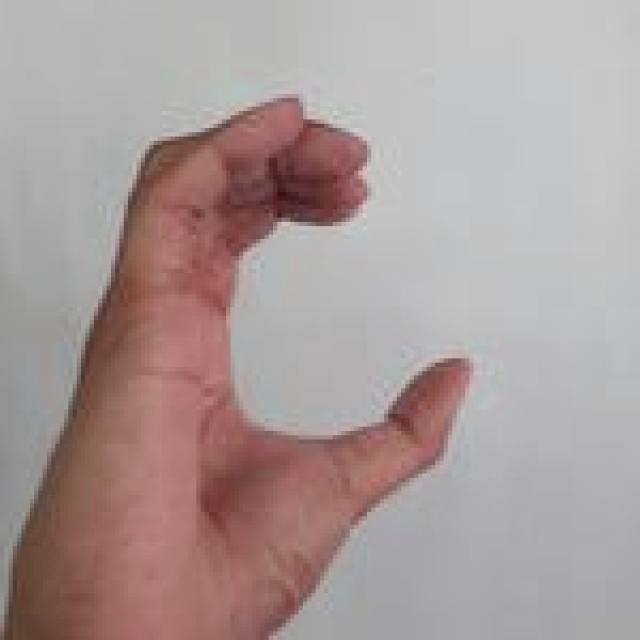C: (3, 94, 475, 640)
